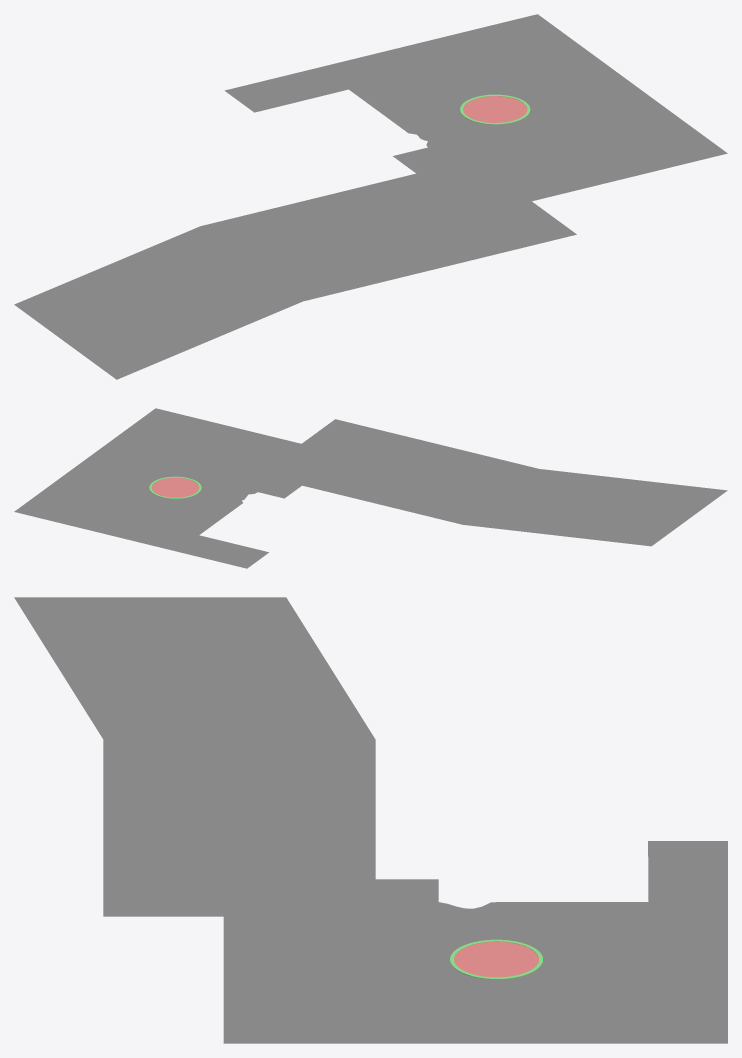
File: S_Envi_Fyz_Building_125e.gltf
3 renders of one model, top to bottom at view 1: azimuth 30°, elevation 25°; view 2: azimuth 150°, elevation 25°; view 3: azimuth 270°, elevation 25°, orthographic. The views are drawn at different scales.
Visible parts, largest first — view 1: S_Envi_Fyz_Building_125e; view 2: S_Envi_Fyz_Building_125e; view 3: S_Envi_Fyz_Building_125e.
Boxes of the visible parts, <box> form: S_Envi_Fyz_Building_125e: <box>14,14,727,379</box>; S_Envi_Fyz_Building_125e: <box>14,408,727,568</box>; S_Envi_Fyz_Building_125e: <box>14,597,727,1043</box>.
Bounding box in the file's own units: 96.47 × 0.335 × 65.22.
